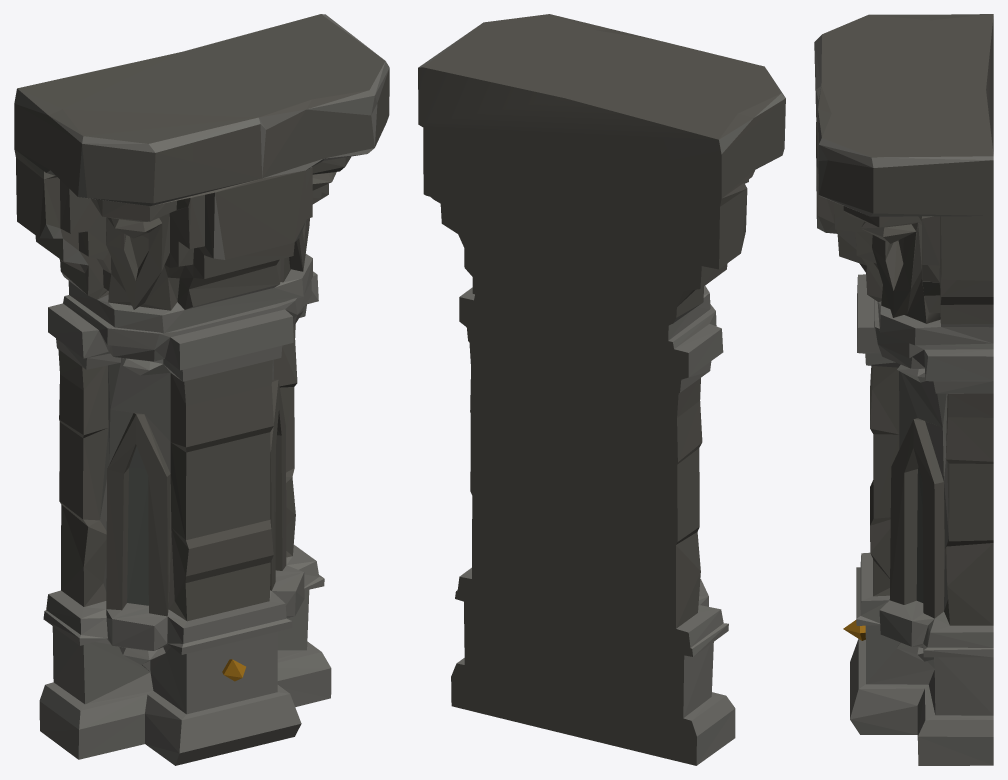
The model's file is MDungeon_PillarSmall_Med_Half.FBX.
The picture shows the model from 3 angles, left to right: view 1: azimuth 30°, elevation 25°; view 2: azimuth 150°, elevation 25°; view 3: azimuth 270°, elevation 25°; orthographic projection. The views are drawn at different scales.
Parts seen in each view (by area): view 1: MDungeon_PillarSmall_Med_Half_LOD0; view 2: MDungeon_PillarSmall_Med_Half_LOD0; view 3: MDungeon_PillarSmall_Med_Half_LOD0.
Part boxes in pixels (x1,y1,x2,y2): MDungeon_PillarSmall_Med_Half_LOD0: (14, 14, 389, 765); MDungeon_PillarSmall_Med_Half_LOD0: (418, 14, 785, 765); MDungeon_PillarSmall_Med_Half_LOD0: (814, 14, 993, 765).
Size of what is drawn, in the model's own units: 3.04 by 6.01 by 1.57.
